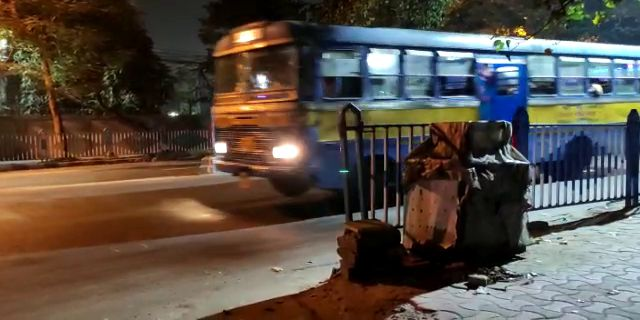Bus: (196, 21, 619, 184)
